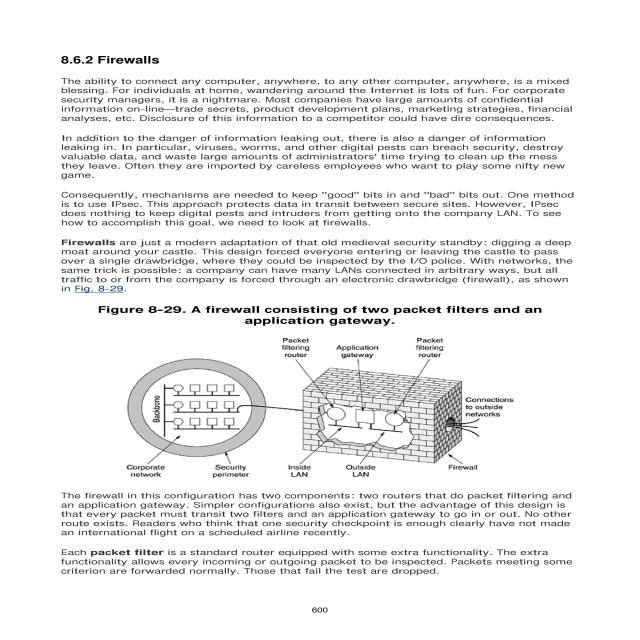diagram: (56, 296, 636, 487)
